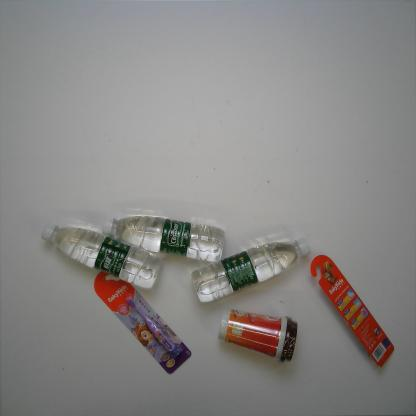Drink: (39, 221, 164, 292), (189, 235, 315, 305), (99, 212, 227, 265)
Instant Drink: (214, 305, 300, 364)
Personal Hygiene: (93, 269, 194, 376), (310, 252, 396, 370)
